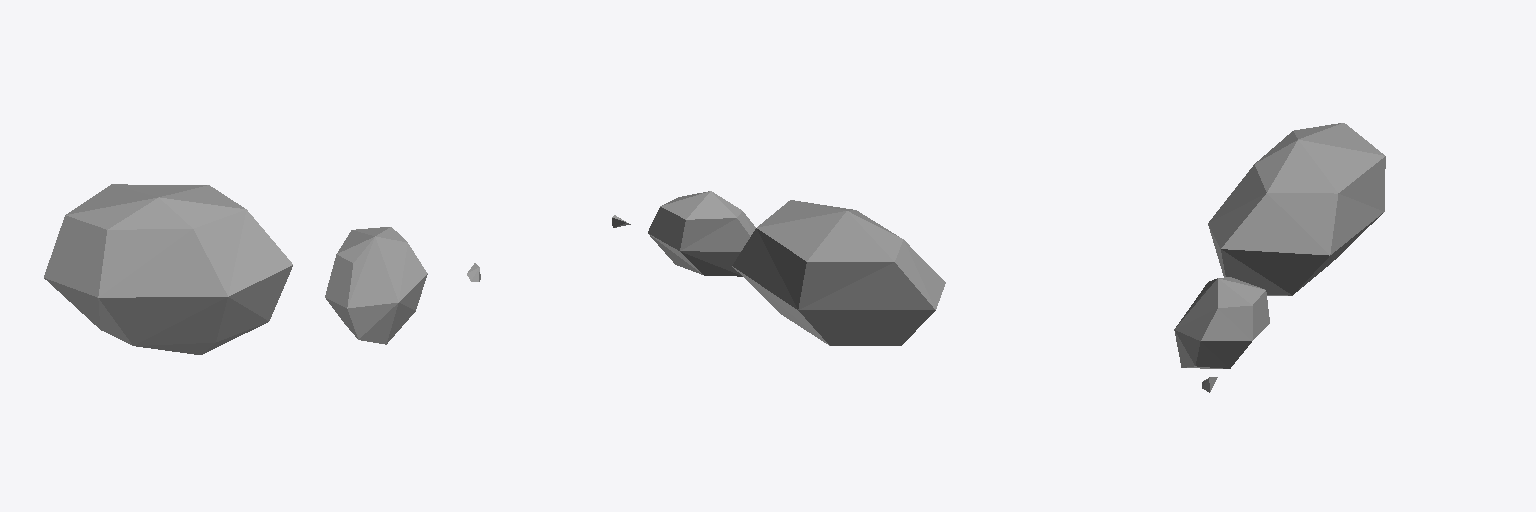
Rendered from Cloud8.obj.
The picture shows the model from 3 angles: view 1: azimuth 30°, elevation 25°; view 2: azimuth 150°, elevation 25°; view 3: azimuth 270°, elevation 25°; orthographic projection.
Visible parts, largest first — view 1: Sphere.002_Sphere.006; view 2: Sphere.002_Sphere.006; view 3: Sphere.002_Sphere.006.
Boxes of the visible parts, <box> form: Sphere.002_Sphere.006: <box>44,184,480,354</box>; Sphere.002_Sphere.006: <box>612,191,945,345</box>; Sphere.002_Sphere.006: <box>1174,123,1385,392</box>.
Size of the model in its own units: 6.11 by 2.25 by 2.94.